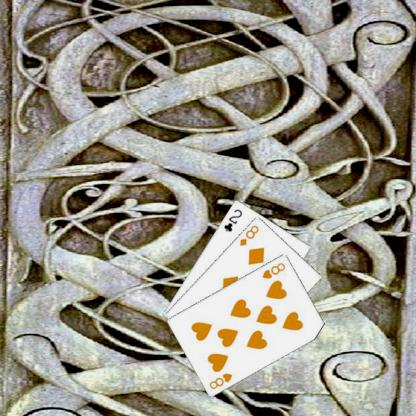2C: (221, 206, 244, 233)
8D: (237, 222, 260, 247)
8H: (207, 370, 234, 390), (260, 260, 286, 280)
